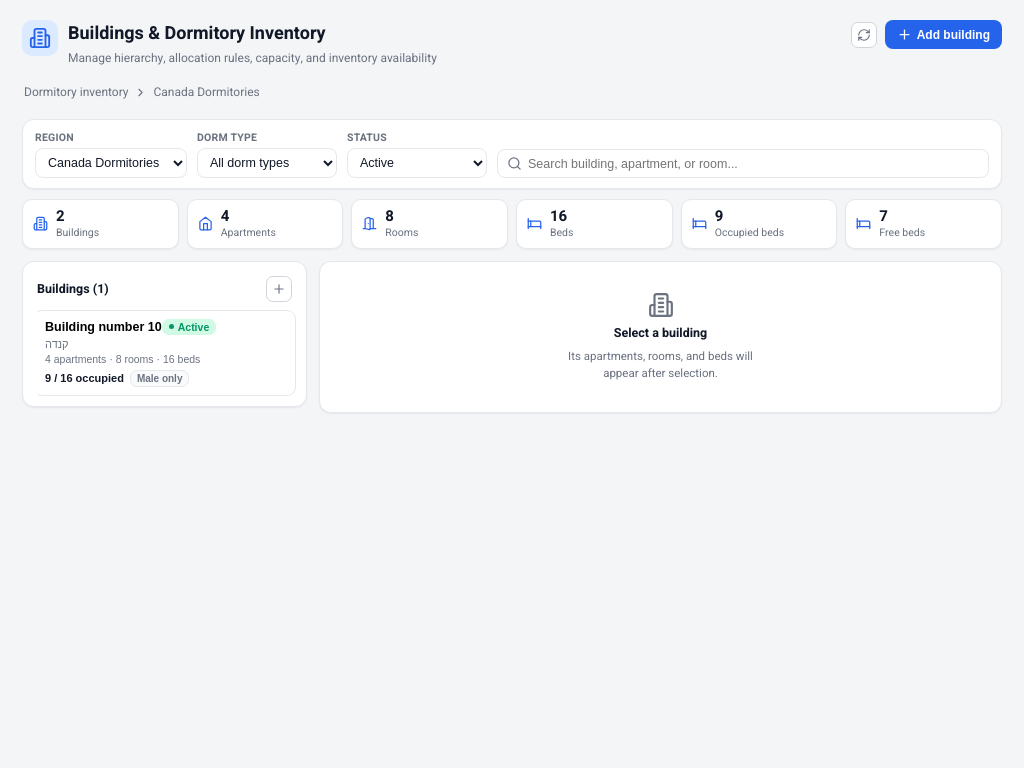
Test: BuildingsPage editors › edits a building: pre-filled form, PATCH payload, then a refresh of the scope
The width and height of the screenshot is (1024, 768).
Click the button "Building number 10" at [164, 352], box [33,310,296,396]
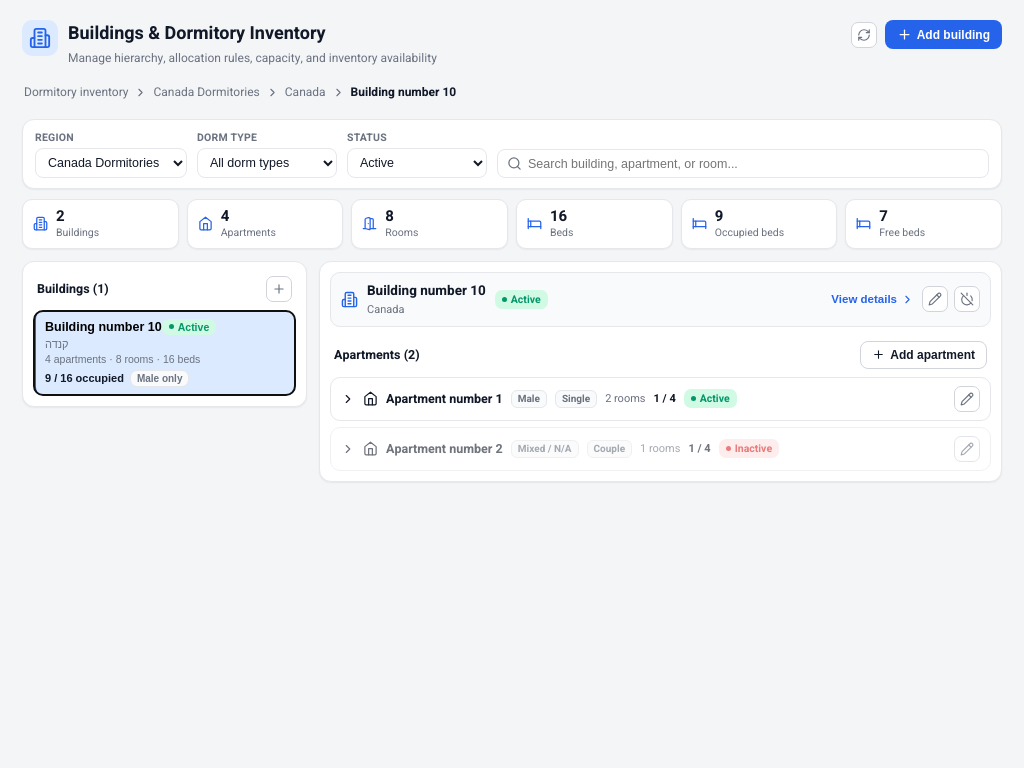
Result: the text "Apartment number 1" is shown at [386,390,503,408]
Click the 1st button named "Edit" at [935, 299], box [922,286,948,312]
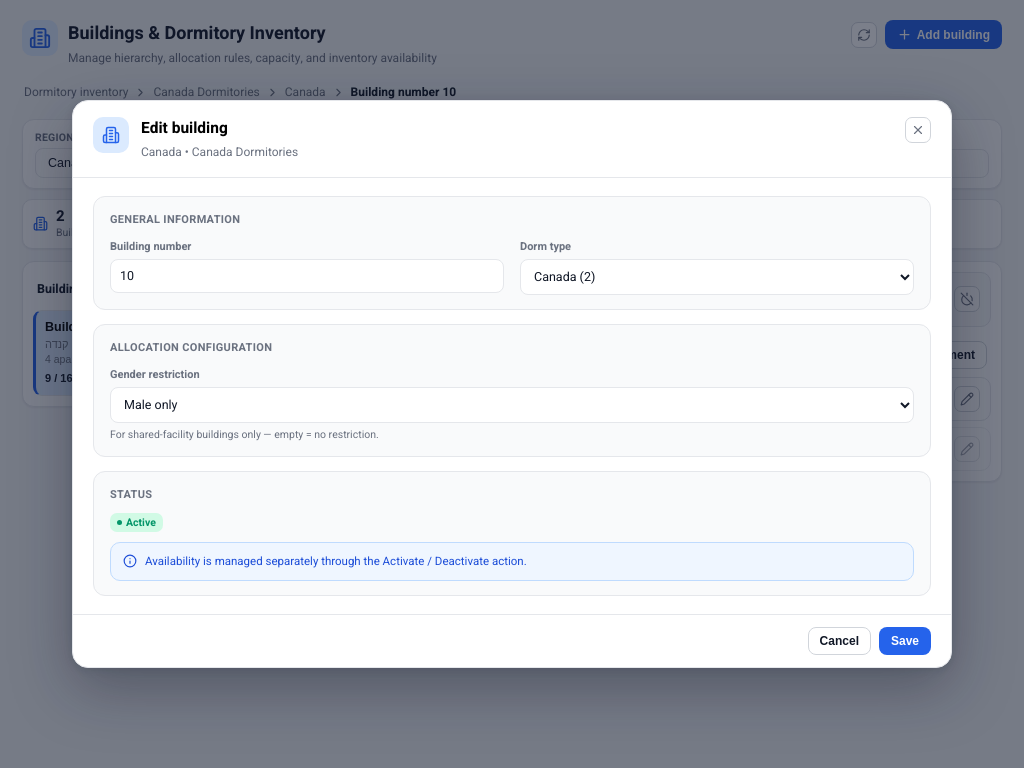
Result: the heading "Edit building" is shown at [141,117,228,140]
Result: the text "Canada • Canada Dormitories" is shown at [141,143,298,161]
Result: the number field labelled "Building number" holds "10" at [110,259,504,293]
Select "Female only" in the dropdown labelled "Gender restriction" at [512, 405], box [110,387,914,423]
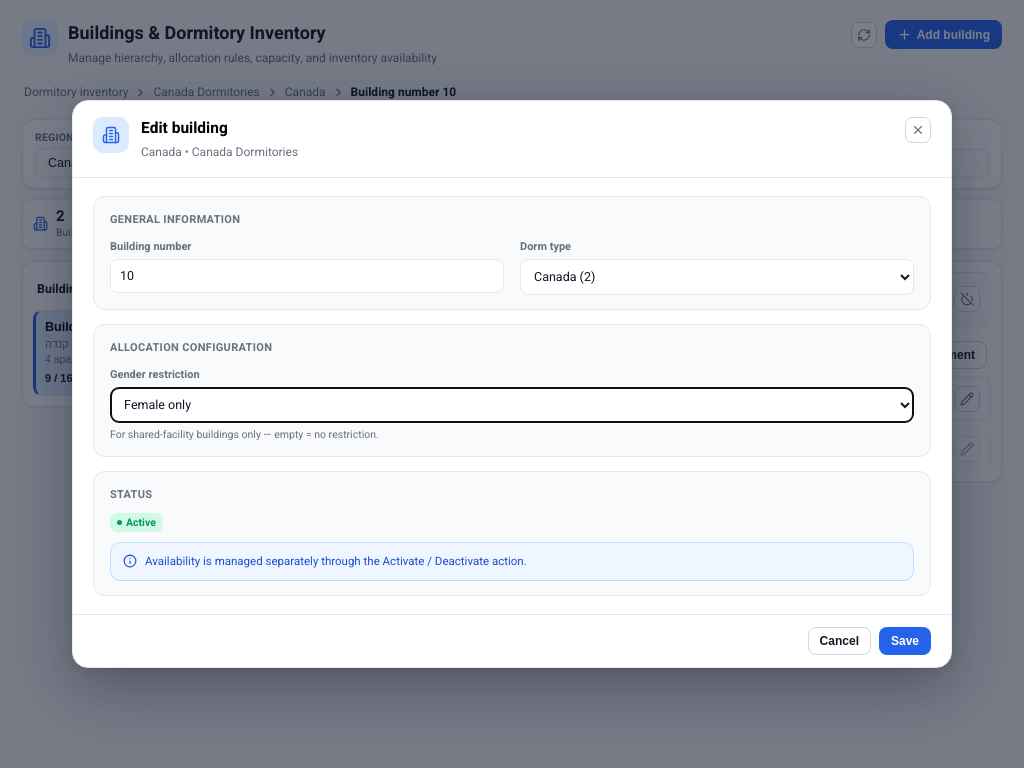
Click the button "Save" at [905, 641], box [879,627,931,655]
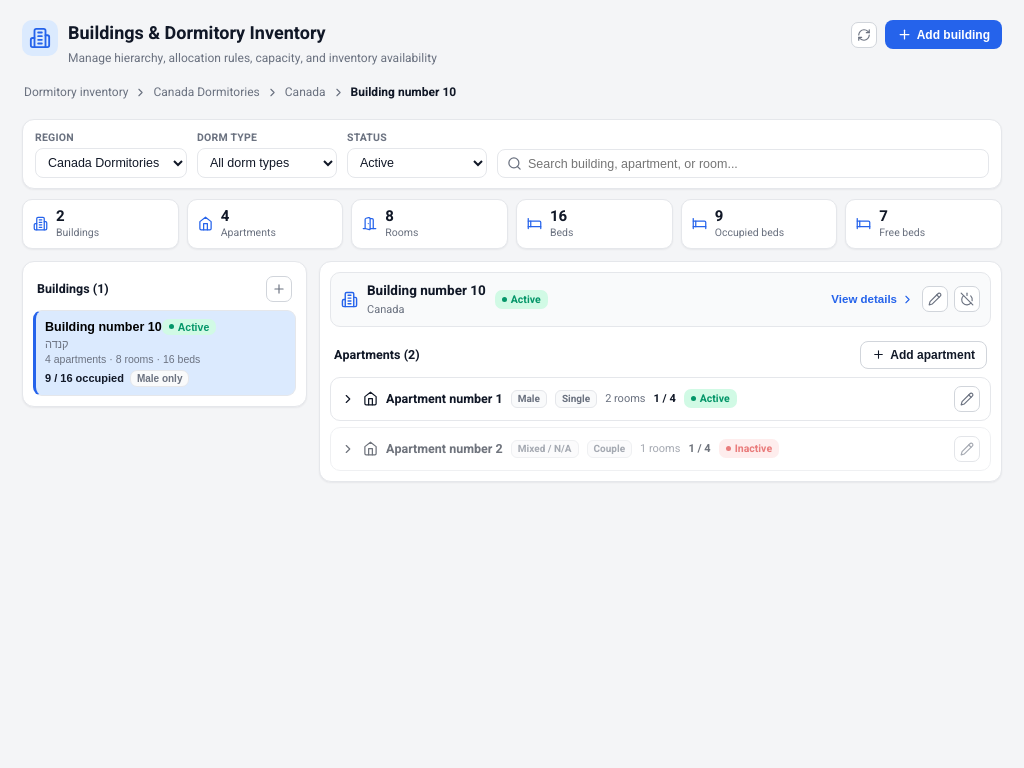
Result: the dialog is gone
